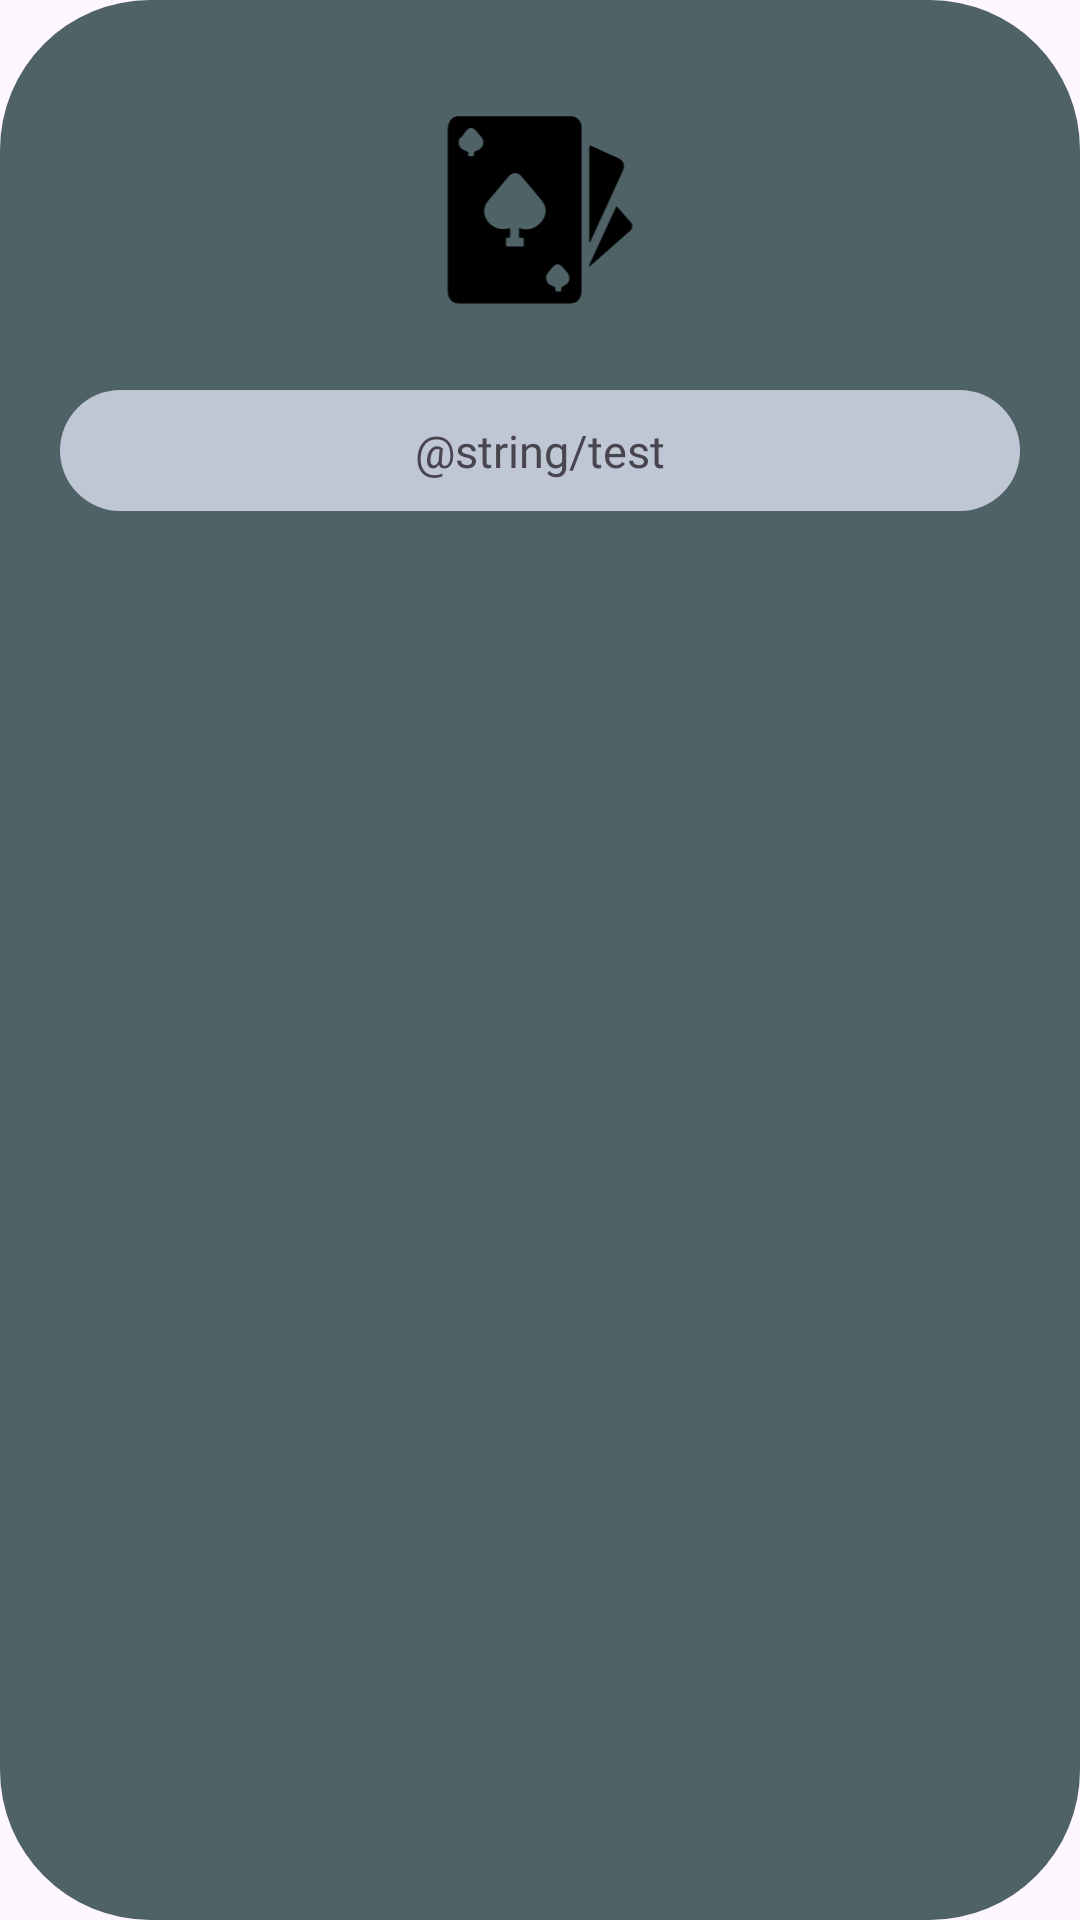

Locate icon controls on the screen. Image size 1080*1920, boxes as [x1=x1, y1=y1, x2=x2, y2=y2].
jokers: [x1=447, y1=116, x2=633, y2=304]
